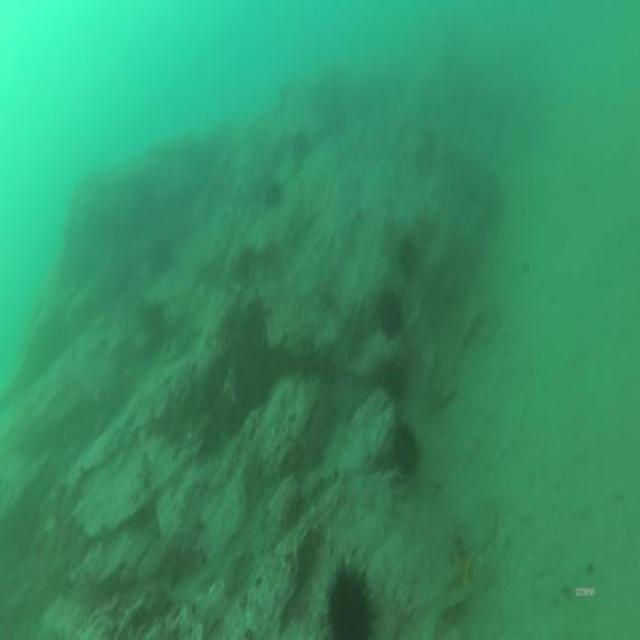echinus: (329, 572, 371, 640), (380, 356, 406, 403), (394, 427, 420, 468), (399, 237, 421, 278), (379, 297, 401, 332), (154, 245, 172, 276), (142, 307, 166, 330), (265, 178, 278, 204)
